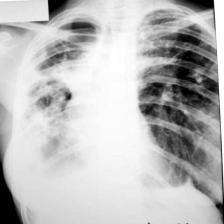tuberculosis: (13, 7, 224, 210)
